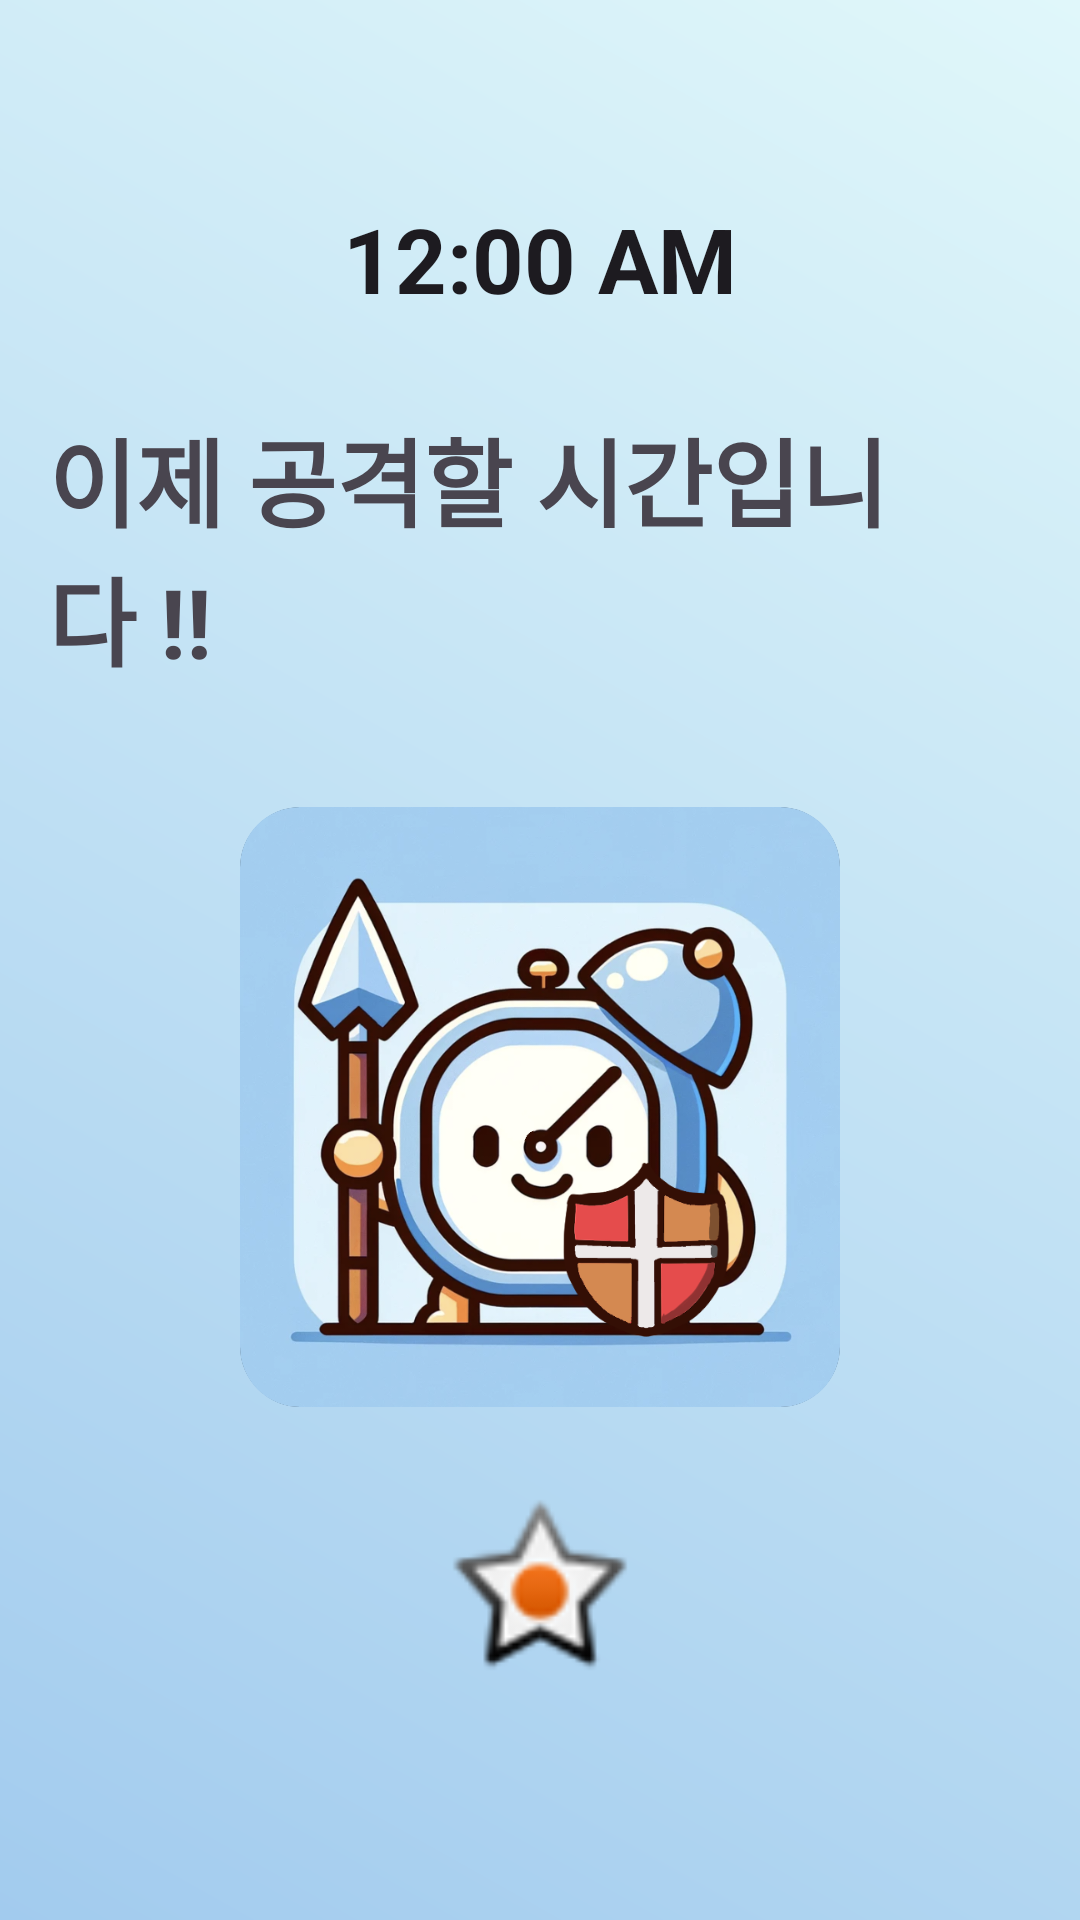

Icons on this 1080 x 1920 Android screen, each with its box as bbox(x1, y1, x2, y2):
star on: bbox(454, 1502, 626, 1667)
